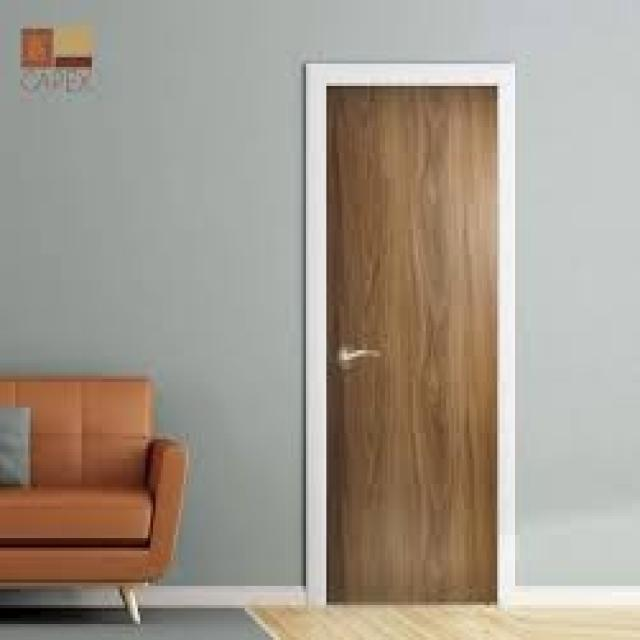door: (308, 64, 504, 608)
